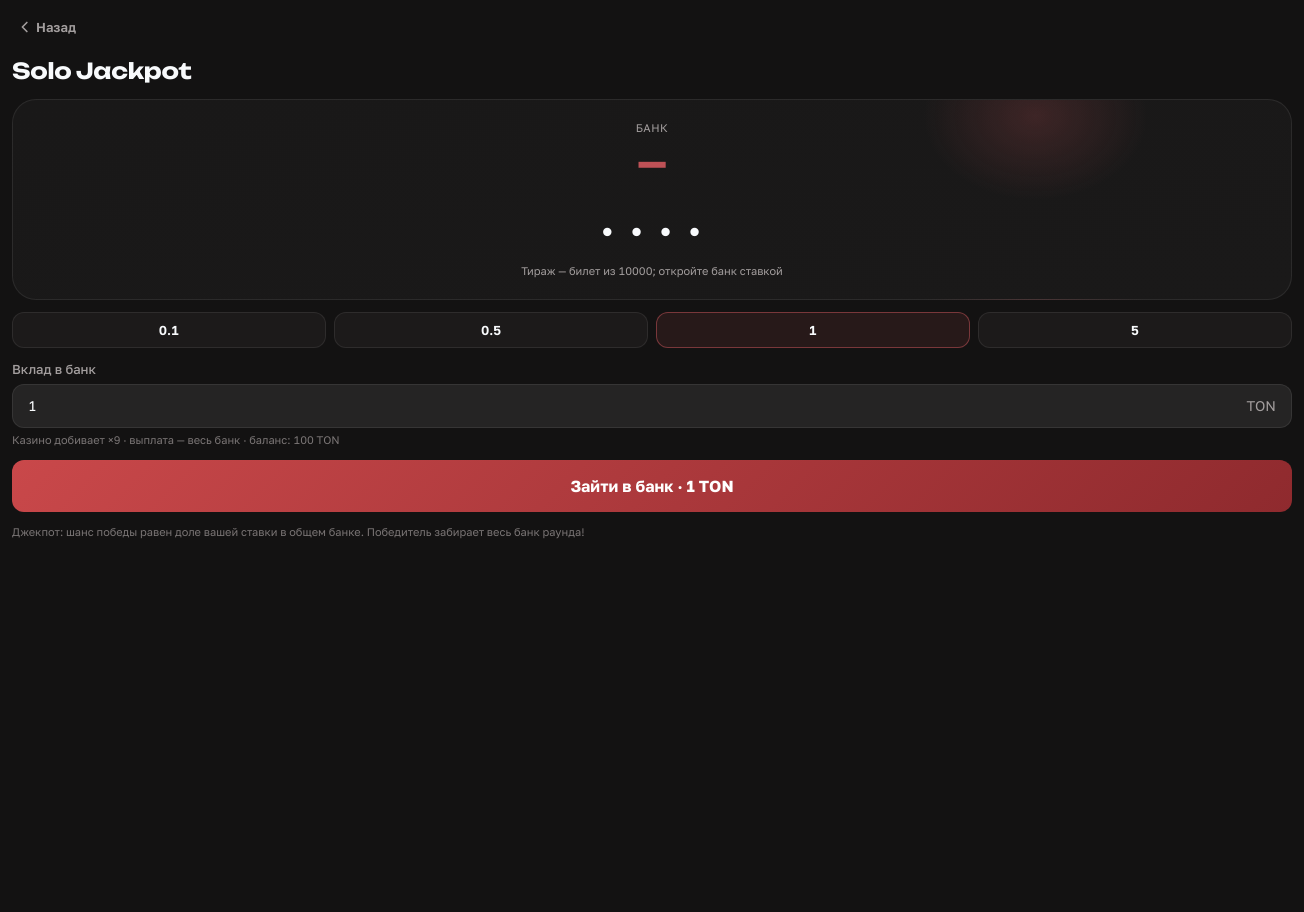
Scenario: JackpotScreen (5.2: банк, доля, тираж) › старт раунда: банк 10 TON, доля 10.00%, панель докидывания и тиража
Click the button "Зайти в банк · 1 TON".
click(652, 486)  # box [12,460,1292,512]
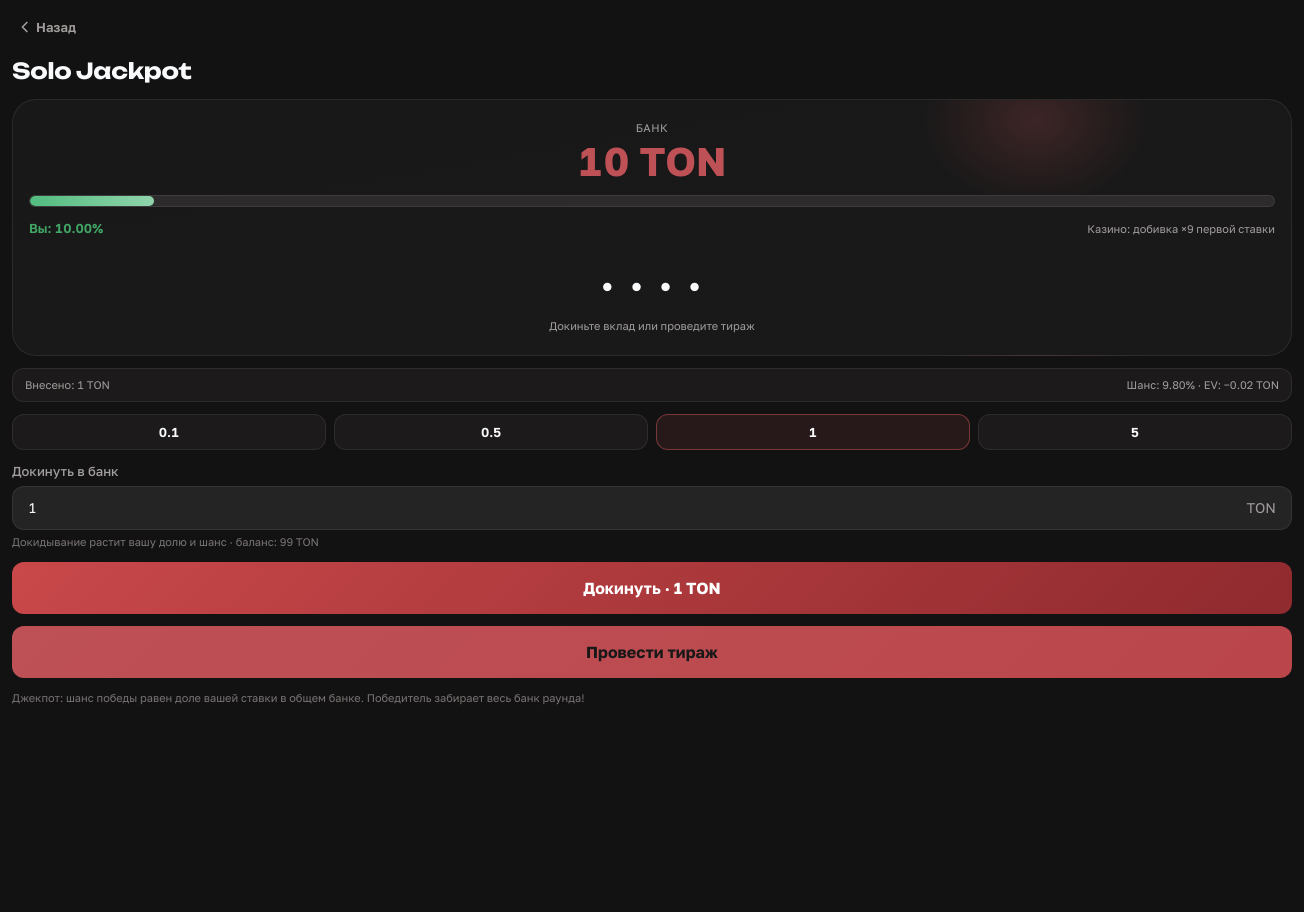
Expected: the text with test id "bank" reads "10 TON", [578,136,726,184]
Expected: the text "Вы: 10.00%" is shown, [29,218,103,238]
Expected: the button "Провести тираж" is enabled, [12,626,1292,678]
